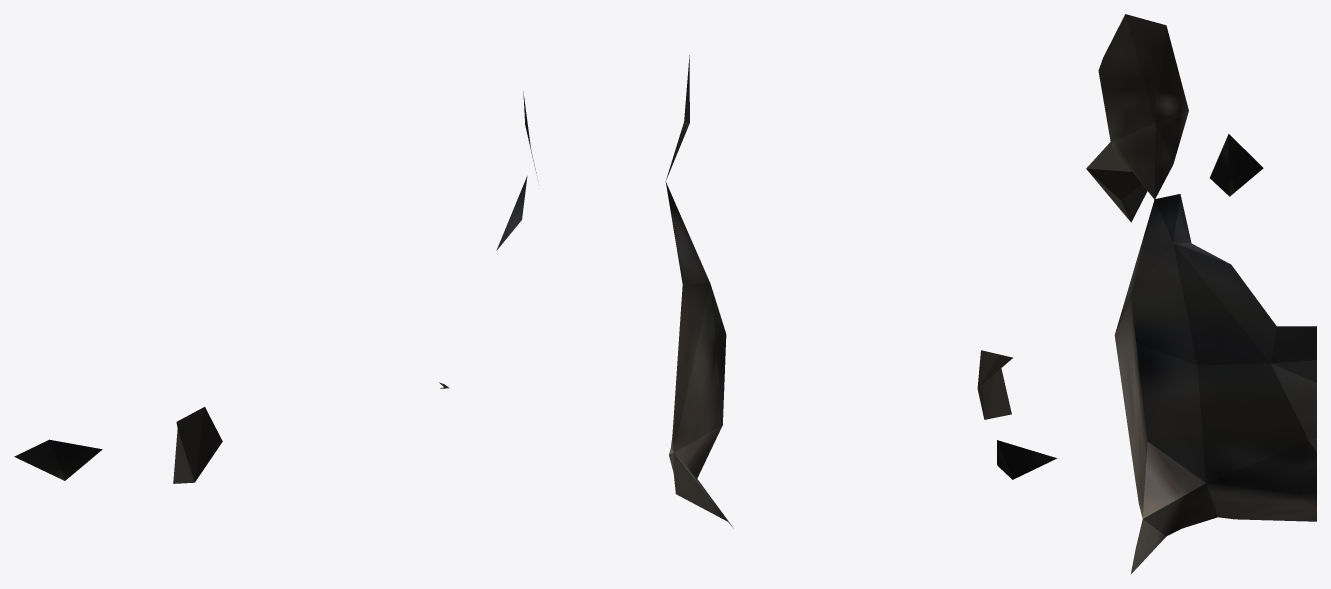
3 renders of one model, left to right at view 1: azimuth 30°, elevation 25°; view 2: azimuth 150°, elevation 25°; view 3: azimuth 270°, elevation 25°, orthographic. The views are drawn at different scales.
Size of the model in its own units: 0.2819 by 0.3043 by 0.1135.
1 material, 1 textured.
